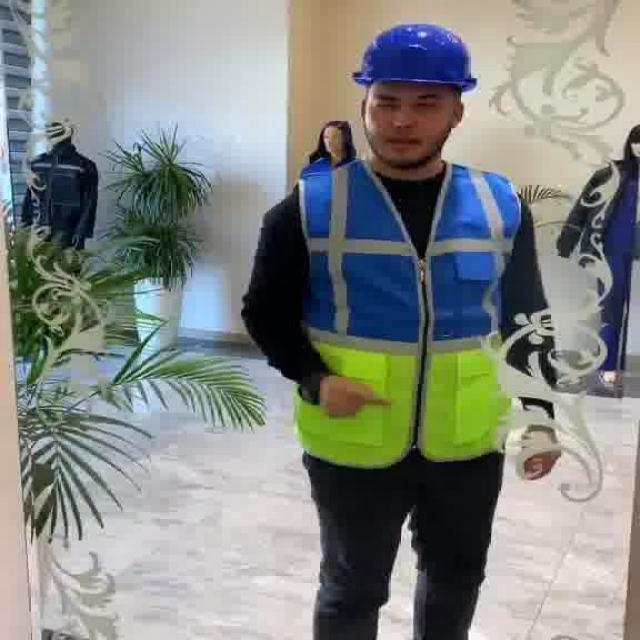Helmet: (351, 22, 478, 94)
Person: (236, 8, 571, 631)
Vest: (294, 158, 514, 472)
